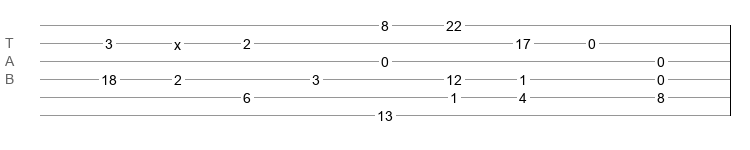0: (381, 54, 389, 64), (588, 36, 596, 46), (657, 72, 665, 82), (657, 54, 665, 64)
1: (450, 90, 458, 100), (519, 72, 527, 82)
12: (446, 72, 462, 82)
13: (377, 108, 393, 118)
17: (515, 36, 531, 46)
18: (101, 72, 117, 82)
2: (174, 72, 182, 82), (243, 36, 251, 46)
22: (446, 18, 462, 28)
3: (105, 36, 113, 46), (312, 72, 320, 82)
4: (519, 90, 527, 100)
6: (243, 90, 251, 100)
8: (381, 18, 389, 28), (657, 90, 665, 100)
x: (174, 37, 181, 45)
